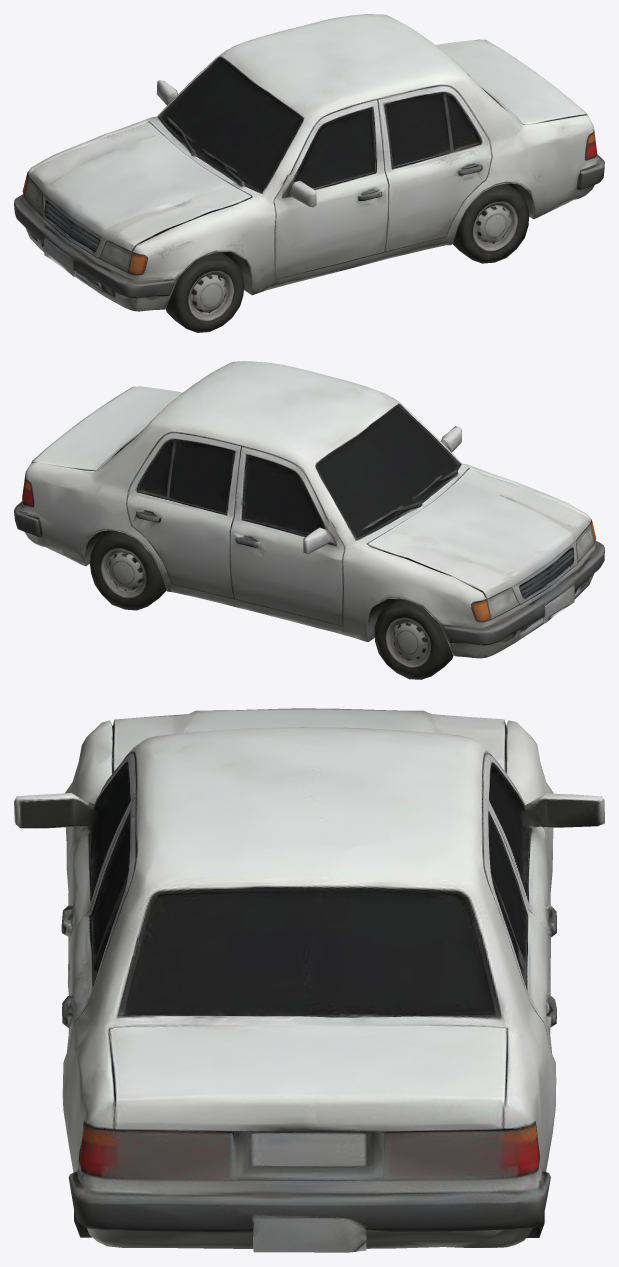
Rendered from car_saloon_white.glb.
3 views of the same model, one above another, from view 1: azimuth 30°, elevation 25°; view 2: azimuth 150°, elevation 25°; view 3: azimuth 270°, elevation 25° (orthographic). The views are drawn at different scales.
Parts seen in each view (by area): view 1: tripo_node_d20e41d1-22ad-4cf1-b8cc-4c43c212f716; view 2: tripo_node_d20e41d1-22ad-4cf1-b8cc-4c43c212f716; view 3: tripo_node_d20e41d1-22ad-4cf1-b8cc-4c43c212f716.
Part boxes in pixels (x1,y1,x2,y2): tripo_node_d20e41d1-22ad-4cf1-b8cc-4c43c212f716: (14,14,604,332); tripo_node_d20e41d1-22ad-4cf1-b8cc-4c43c212f716: (14,361,604,679); tripo_node_d20e41d1-22ad-4cf1-b8cc-4c43c212f716: (14,708,604,1252).
Size of the model in its own units: 1 by 0.3652 by 0.5437.
Materials: 1 (1 with a texture image).
